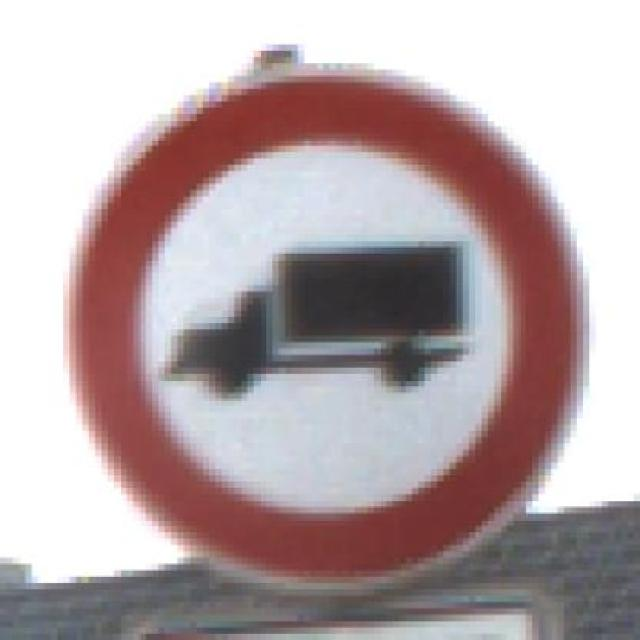Truck traffic is prohibited: (50, 38, 602, 620)
